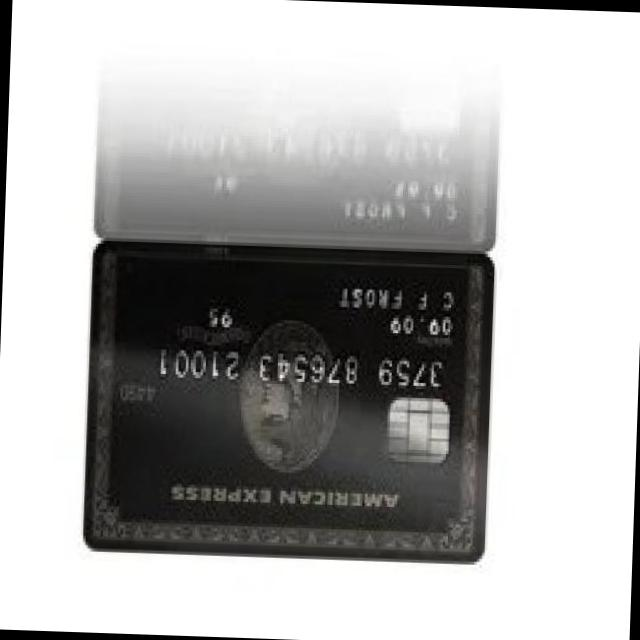card: (84, 238, 498, 562)
